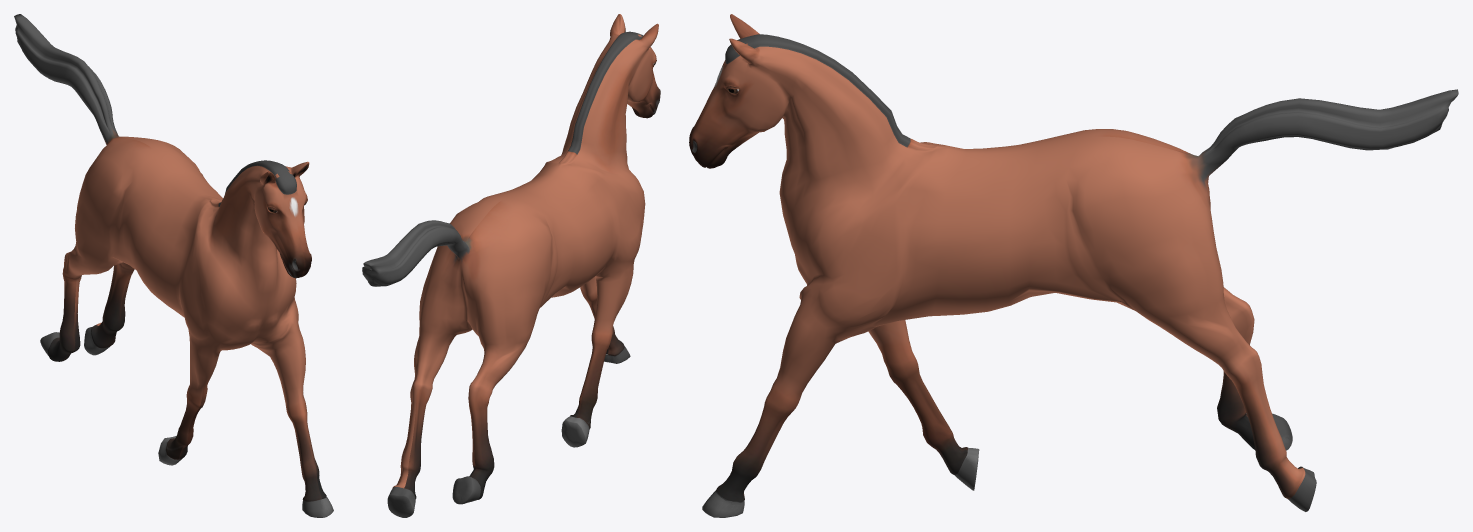
File: horse_obj_1.obj
The picture shows the model from 3 angles, left to right: view 1: azimuth 30°, elevation 25°; view 2: azimuth 150°, elevation 25°; view 3: azimuth 270°, elevation 25°; orthographic projection. The views are drawn at different scales.
Parts seen in each view (by area): view 1: Figure_1; view 2: Figure_1; view 3: Figure_1.
Part boxes in pixels (x1,y1,x2,y2): Figure_1: [14, 14, 333, 517]; Figure_1: [362, 14, 660, 517]; Figure_1: [689, 14, 1458, 517].
Bounding box in the file's own units: 0.2421 × 0.8194 × 1.19.
7 materials, 7 textured.
